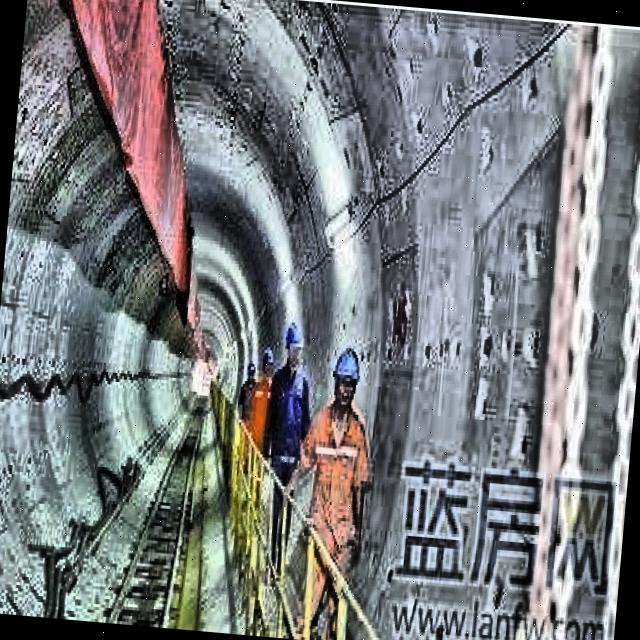helmet: (328, 338, 363, 412), (280, 316, 308, 374), (259, 340, 277, 380)
